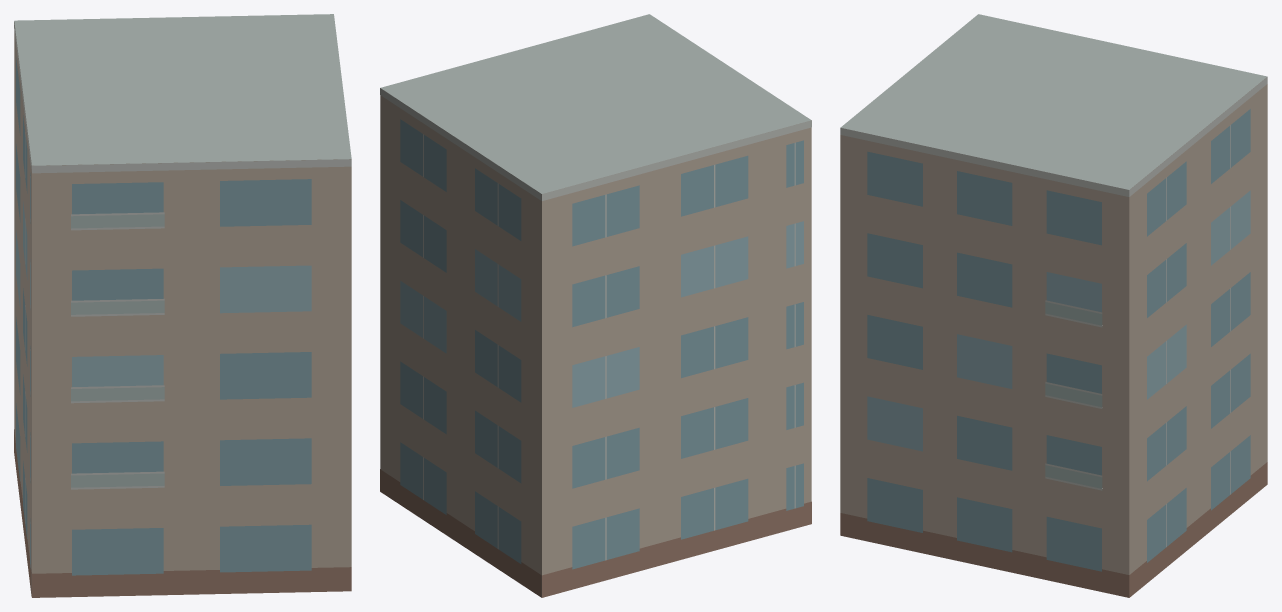
Rendered from survey-upis-32912591.glb.
The picture shows the model from 3 angles, left to right: view 1: azimuth 30°, elevation 25°; view 2: azimuth 150°, elevation 25°; view 3: azimuth 270°, elevation 25°; orthographic projection. The views are drawn at different scales.
Parts seen in each view (by area): view 1: survey-upis-32912591.tmp; view 2: survey-upis-32912591.tmp; view 3: survey-upis-32912591.tmp.
Part boxes in pixels (bbox=[...]): survey-upis-32912591.tmp: bbox=[14, 14, 351, 597]; survey-upis-32912591.tmp: bbox=[380, 14, 811, 597]; survey-upis-32912591.tmp: bbox=[840, 14, 1267, 597].
Bounding box in the file's own units: 12.85 × 13.88 × 13.19.
